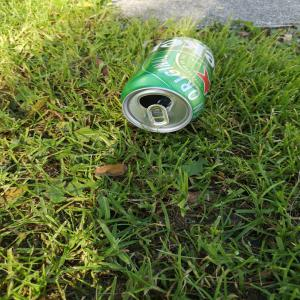Can: (120, 36, 218, 135)
